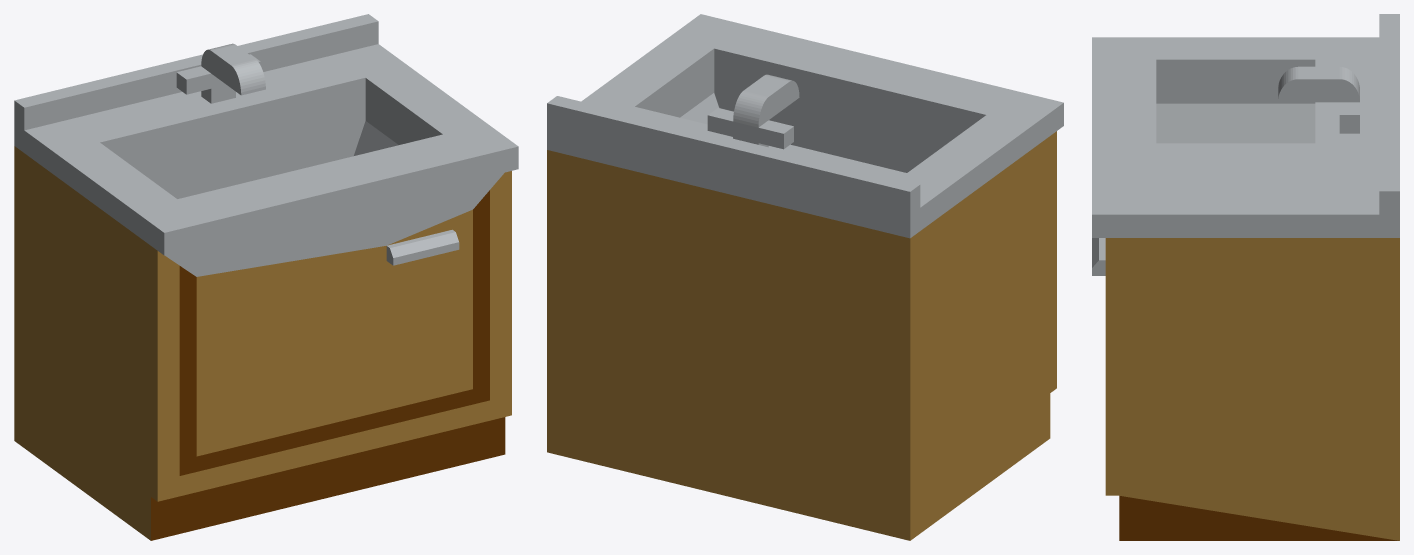
Rendered from sink.glb.
3 views of the same model, side by side, from view 1: azimuth 30°, elevation 25°; view 2: azimuth 150°, elevation 25°; view 3: azimuth 270°, elevation 25° (orthographic). The views are drawn at different scales.
Visible parts, largest first — view 1: sink; view 2: sink; view 3: sink.
Boxes of the visible parts, bbox=[...] form: sink: bbox=[14, 14, 518, 540]; sink: bbox=[547, 14, 1063, 540]; sink: bbox=[1092, 14, 1399, 540].
Size of the model in its own units: 0.9 by 0.9 by 0.66.
